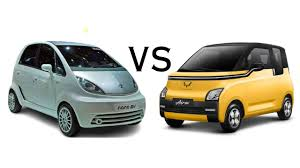Nano: (6, 41, 145, 135)
